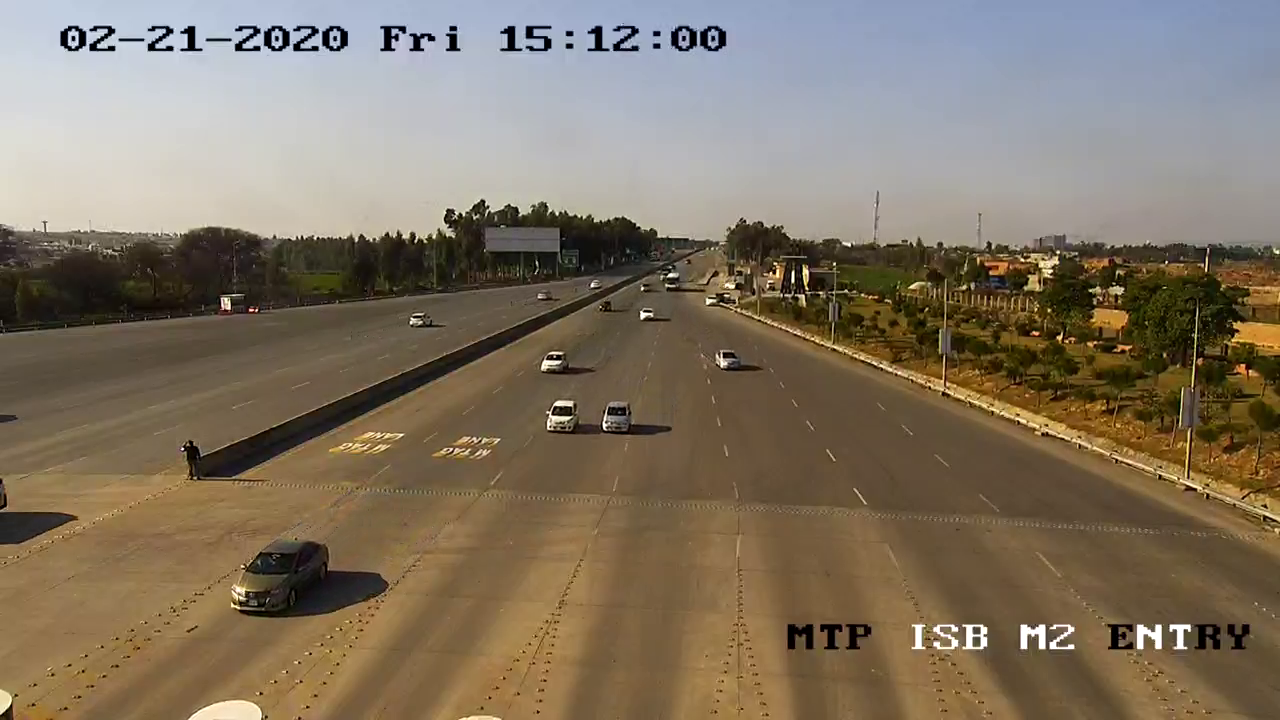f1: (220, 527, 336, 623), (542, 390, 586, 439), (598, 393, 639, 438)
